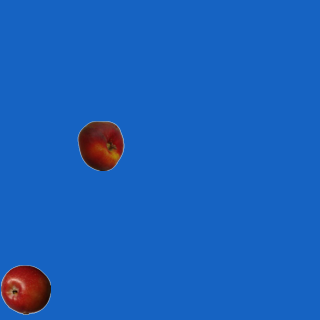Apple Braeburn: (0, 264, 50, 314)
Nectarine Flat: (75, 120, 125, 170)
